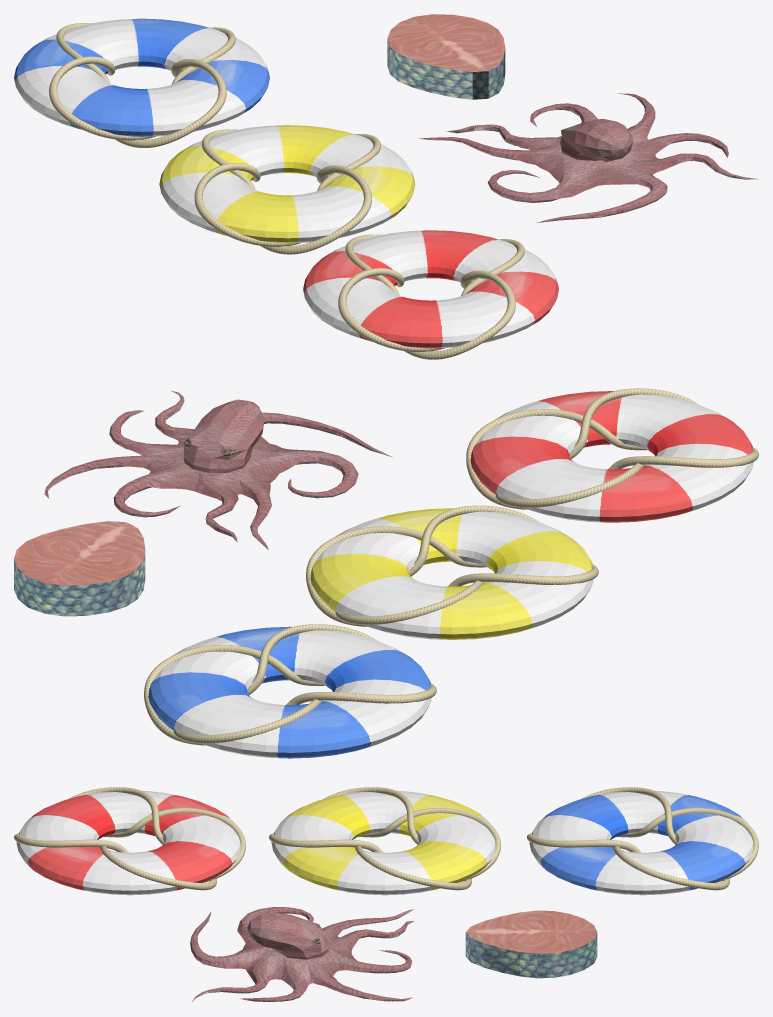
File: Ocean Trio.fbx
3 renders of one model, top to bottom at view 1: azimuth 30°, elevation 25°; view 2: azimuth 150°, elevation 25°; view 3: azimuth 270°, elevation 25°, orthographic. The views are drawn at different scales.
Visible parts, largest first — view 1: Bouee, Bouee_2, Bouee_1, Pieuvre, Poisson; view 2: Bouee_2, Bouee, Bouee_1, Pieuvre, Poisson; view 3: Bouee_1, Bouee, Bouee_2, Pieuvre, Poisson.
Part boxes in pixels (left/top/right/bottom): Bouee: left=159, top=125, right=415, bottom=254; Bouee_2: left=303, top=230, right=558, bottom=359; Bouee_1: left=14, top=18, right=269, bottom=147; Pieuvre: left=419, top=93, right=758, bottom=222; Poisson: left=387, top=14, right=505, bottom=99; Bouee_2: left=466, top=388, right=758, bottom=522; Bouee: left=306, top=505, right=598, bottom=639; Bouee_1: left=144, top=624, right=436, bottom=758; Pieuvre: left=44, top=390, right=393, bottom=550; Poisson: left=14, top=521, right=145, bottom=616; Bouee_1: left=527, top=787, right=758, bottom=895; Bouee: left=269, top=787, right=500, bottom=895; Bouee_2: left=14, top=787, right=245, bottom=895; Pieuvre: left=190, top=907, right=414, bottom=1001; Poisson: left=465, top=910, right=597, bottom=978.
Size of the model in its own units: 431 by 55.71 by 656.
Materials: 5 (5 with a texture image).
